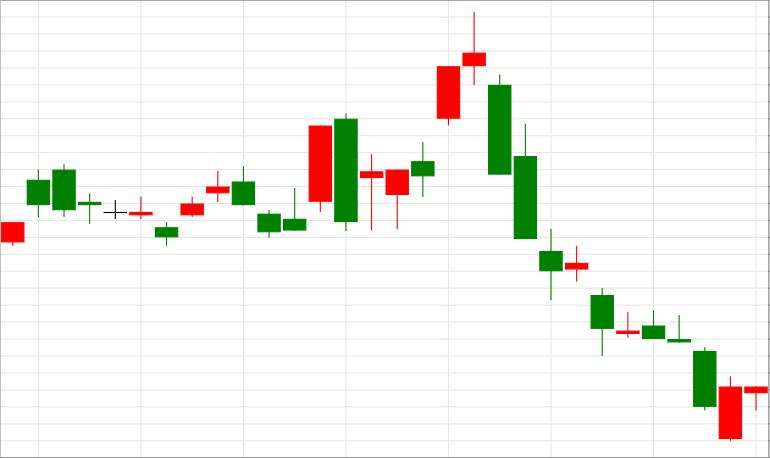evening_star_fall: (335, 13, 511, 231)
